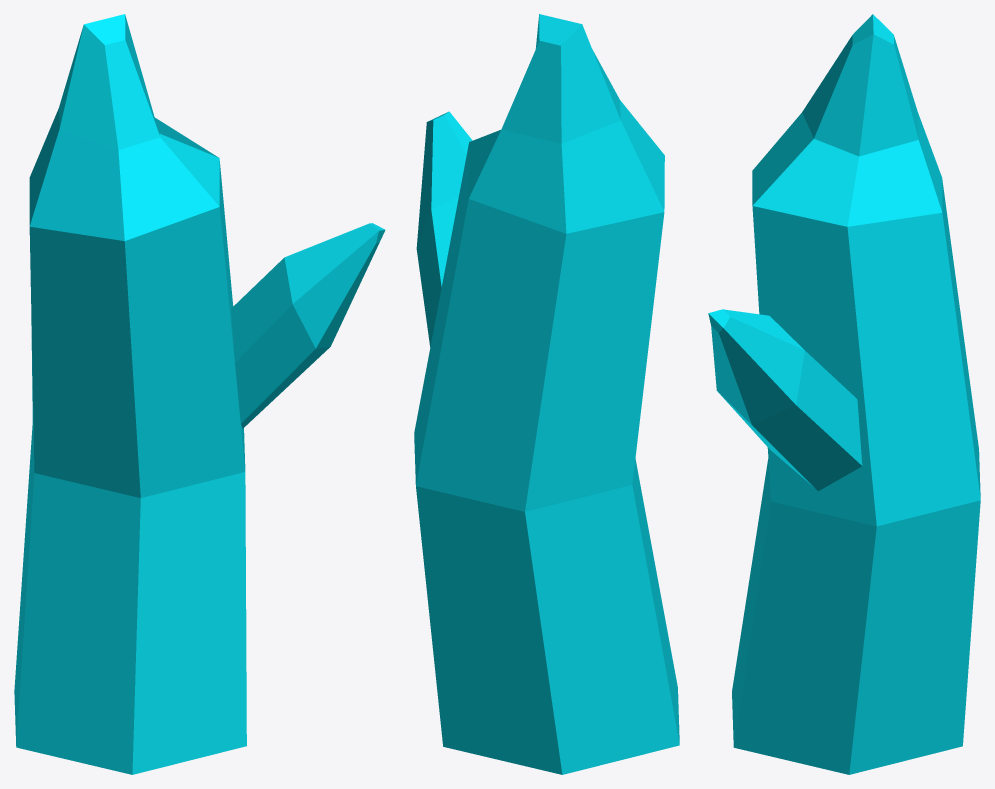
Rendered from CrystalSharp.fbx.
The picture shows the model from 3 angles, left to right: view 1: azimuth 30°, elevation 25°; view 2: azimuth 150°, elevation 25°; view 3: azimuth 270°, elevation 25°; orthographic projection. The views are drawn at different scales.
Visible parts, largest first — view 1: CrystalBig; view 2: CrystalBig; view 3: CrystalBig.
Boxes of the visible parts, bbox=[...] form: CrystalBig: bbox=[14, 14, 385, 774]; CrystalBig: bbox=[414, 14, 679, 774]; CrystalBig: bbox=[708, 14, 980, 774].
Bounding box in the file's own units: 35.1 × 75.49 × 27.08.
